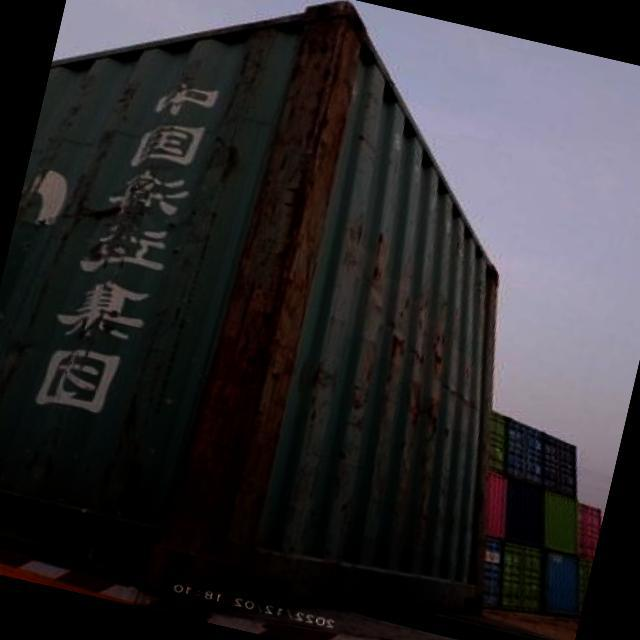rust: (149, 1, 373, 574)
